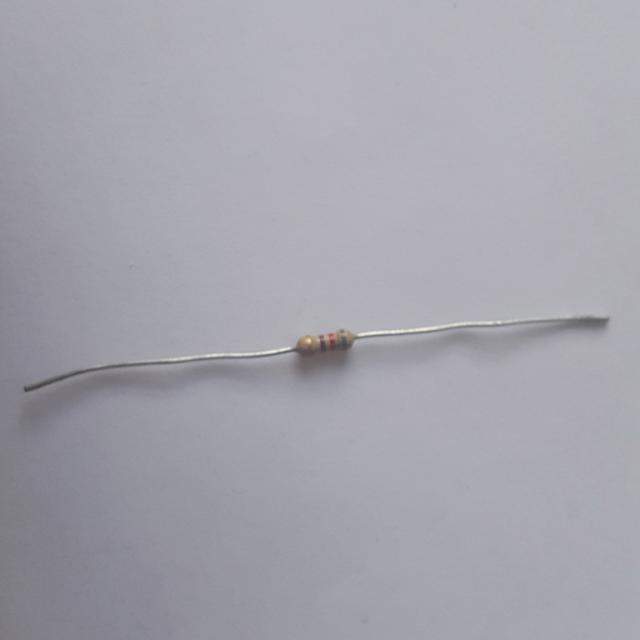brown: (320, 335, 325, 349)
gold: (307, 335, 313, 351)
grey: (341, 328, 347, 349)
red: (329, 332, 335, 347)
resistor: (287, 329, 357, 366)
